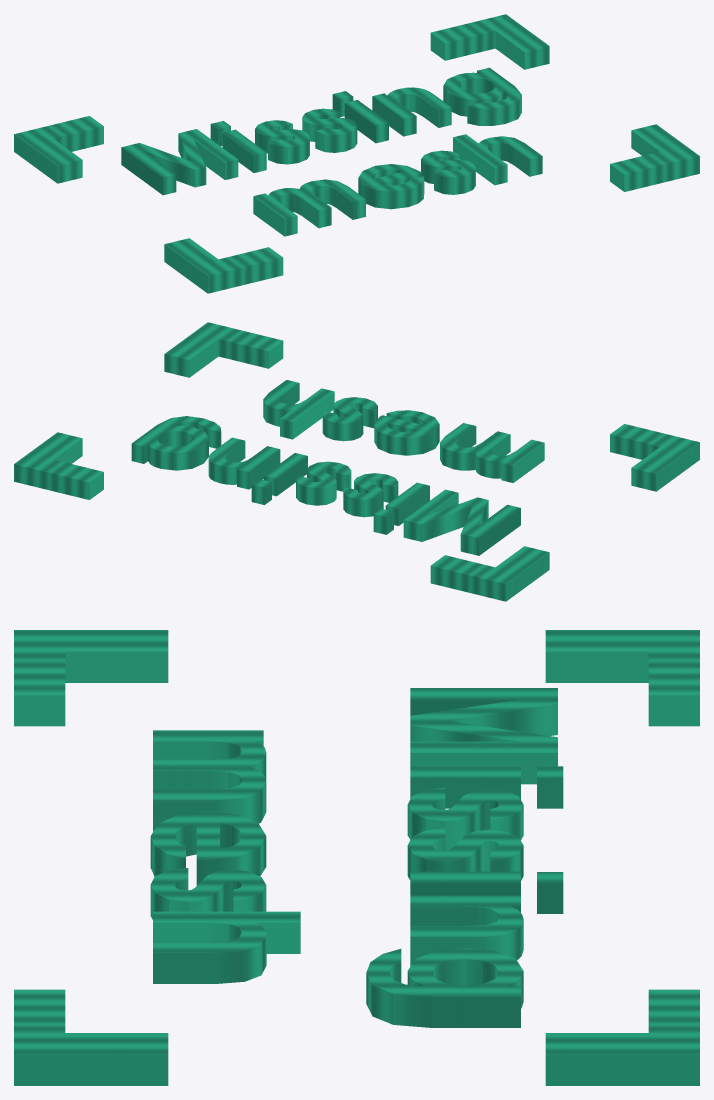
The model's file is error.glb.
3 renders of one model, top to bottom at view 1: azimuth 30°, elevation 25°; view 2: azimuth 150°, elevation 25°; view 3: azimuth 270°, elevation 25°, orthographic. The views are drawn at different scales.
Parts seen in each view (by area): view 1: error; view 2: error; view 3: error.
Boxes of the visible parts, x1,y1,x2,y2 form: error: (14, 14, 699, 293); error: (14, 322, 699, 601); error: (14, 630, 699, 1085).
Size of the model in its own units: 1.47 by 0.05 by 1.
1 material, 1 textured.
